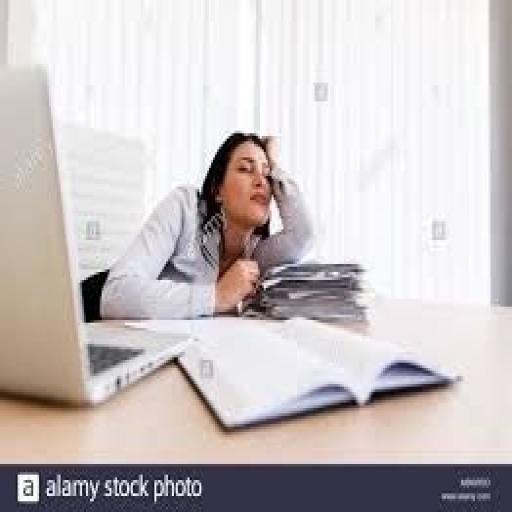sleeping: (80, 128, 317, 323)
